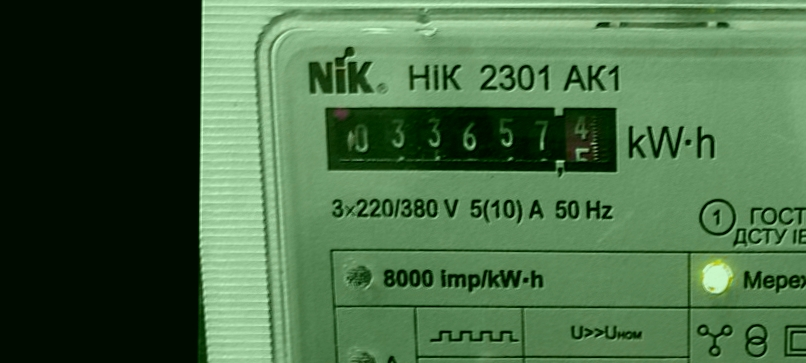0: (351, 120, 373, 157)
3: (389, 116, 409, 152), (425, 116, 444, 151)
4: (572, 113, 592, 143)
5: (495, 115, 518, 151)
6: (459, 119, 480, 155)
7: (532, 117, 551, 153)
screen: (313, 98, 627, 183)
